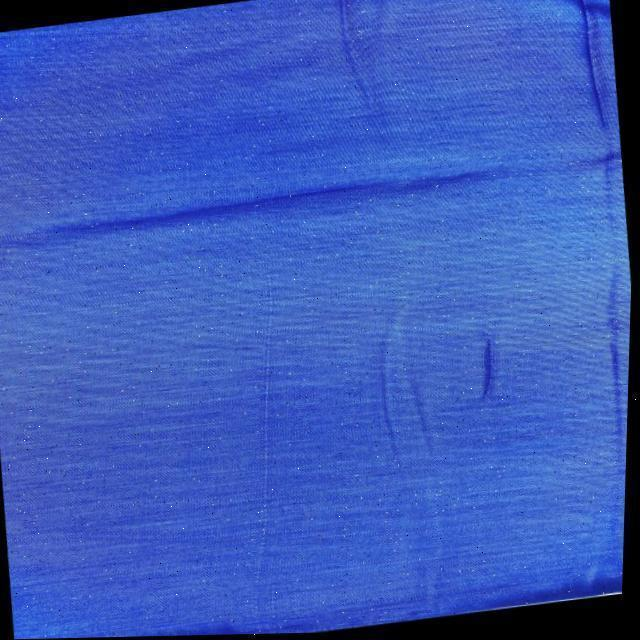broken_yarn: (59, 178, 444, 234), (576, 0, 608, 131), (485, 342, 497, 398)
pulled_or_thick_thread: (261, 350, 271, 577), (269, 277, 275, 354)
